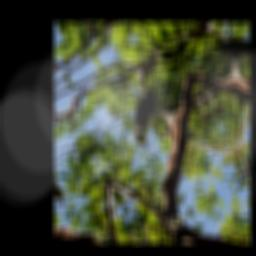Cuckoo: (115, 73, 190, 153)
